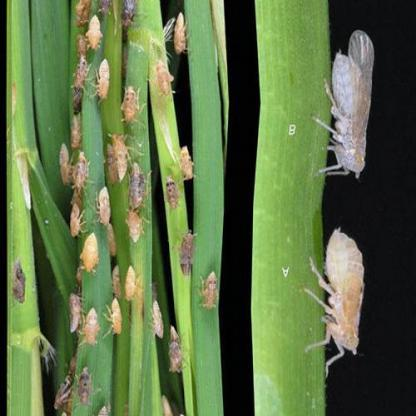brown-planthopper: (328, 44, 370, 178), (324, 228, 366, 361), (80, 231, 102, 273), (152, 58, 173, 96), (201, 269, 219, 312), (128, 162, 145, 207), (179, 229, 195, 275), (73, 154, 90, 196), (169, 328, 183, 376), (70, 55, 88, 92), (174, 15, 190, 55), (122, 261, 138, 301), (95, 188, 111, 226), (84, 304, 98, 347), (12, 258, 26, 301), (80, 368, 95, 408), (108, 298, 123, 336), (86, 13, 102, 48), (96, 60, 110, 100), (58, 142, 71, 184), (163, 178, 179, 212), (150, 298, 164, 336), (178, 148, 194, 180), (124, 87, 138, 123), (127, 209, 142, 242), (70, 203, 84, 238), (70, 114, 82, 148)
